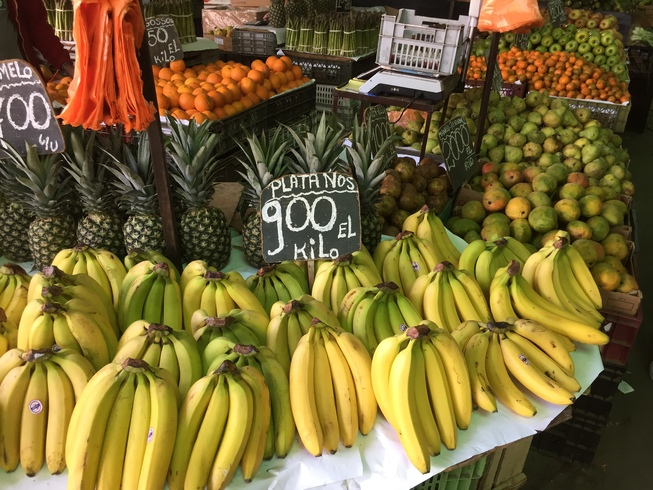precio: (256, 172, 364, 263), (1, 58, 66, 154), (435, 115, 483, 185), (142, 15, 186, 70)
